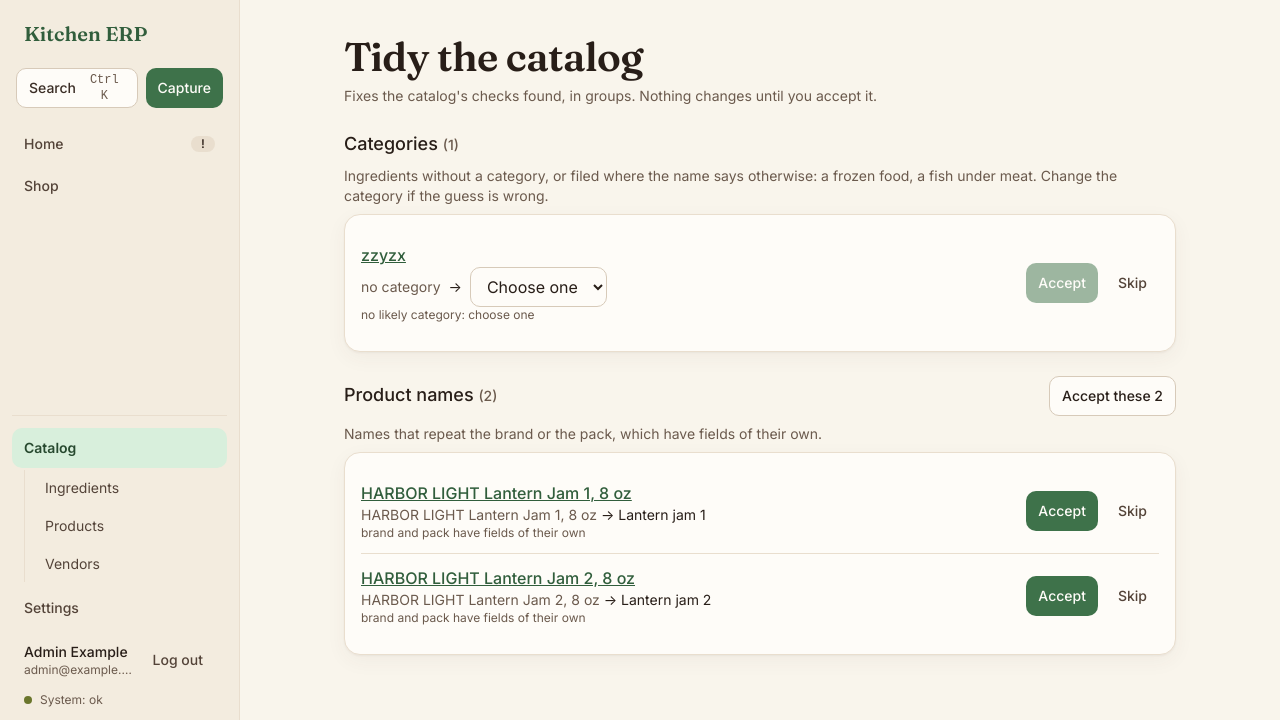
Scenario: tidy the catalog (issue 349) › groups suggestions and applies one, a whole group, or a skip
expect the list item with test id "cleanup-row" shows "HARBOR LIGHT Lantern Jam 1, 8 oz → Lantern jam 1": met, box left=361, top=469, right=1159, bottom=554
expect the button with aria-label "Accept: zzyzx" is disabled: met, box left=1026, top=263, right=1098, bottom=303
Step 1. Click the button with aria-label "Skip: zzyzx" → (1132,283), box left=1106, top=263, right=1159, bottom=303
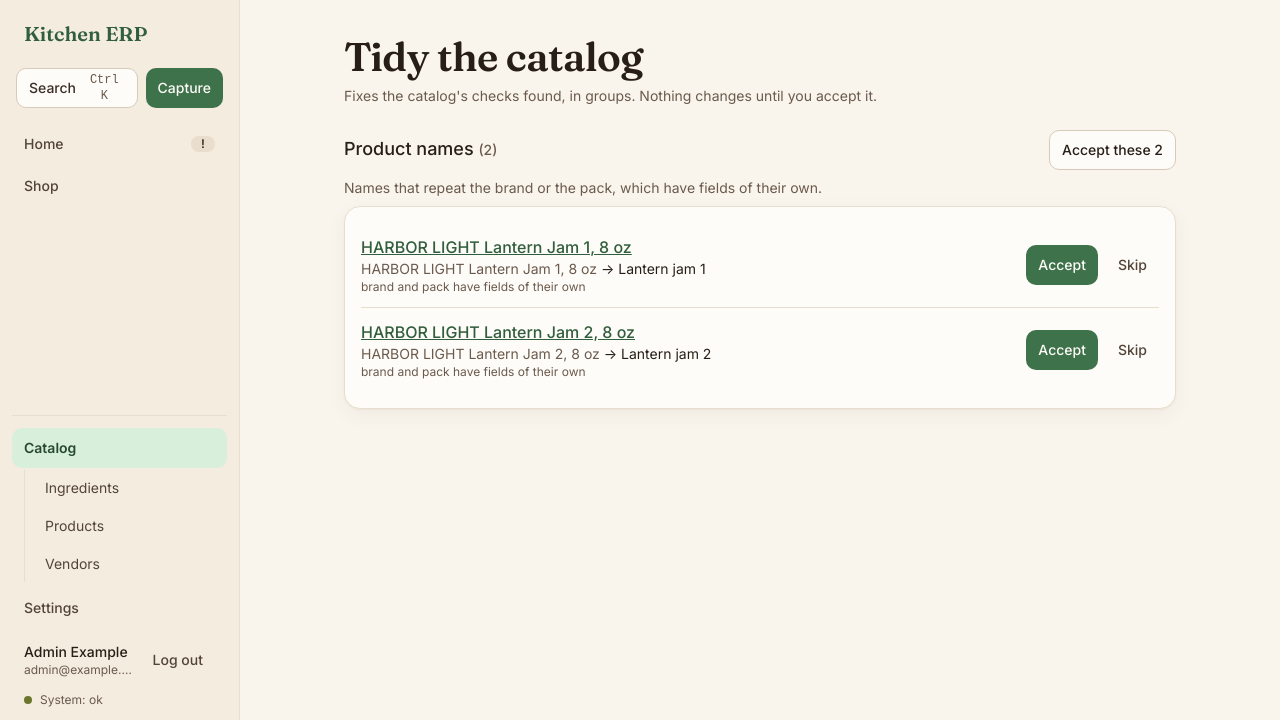
expect the heading "Categories" is gone: met
Step 2. Click the button "Accept these 2" → (1113,150), box left=1049, top=130, right=1176, bottom=170
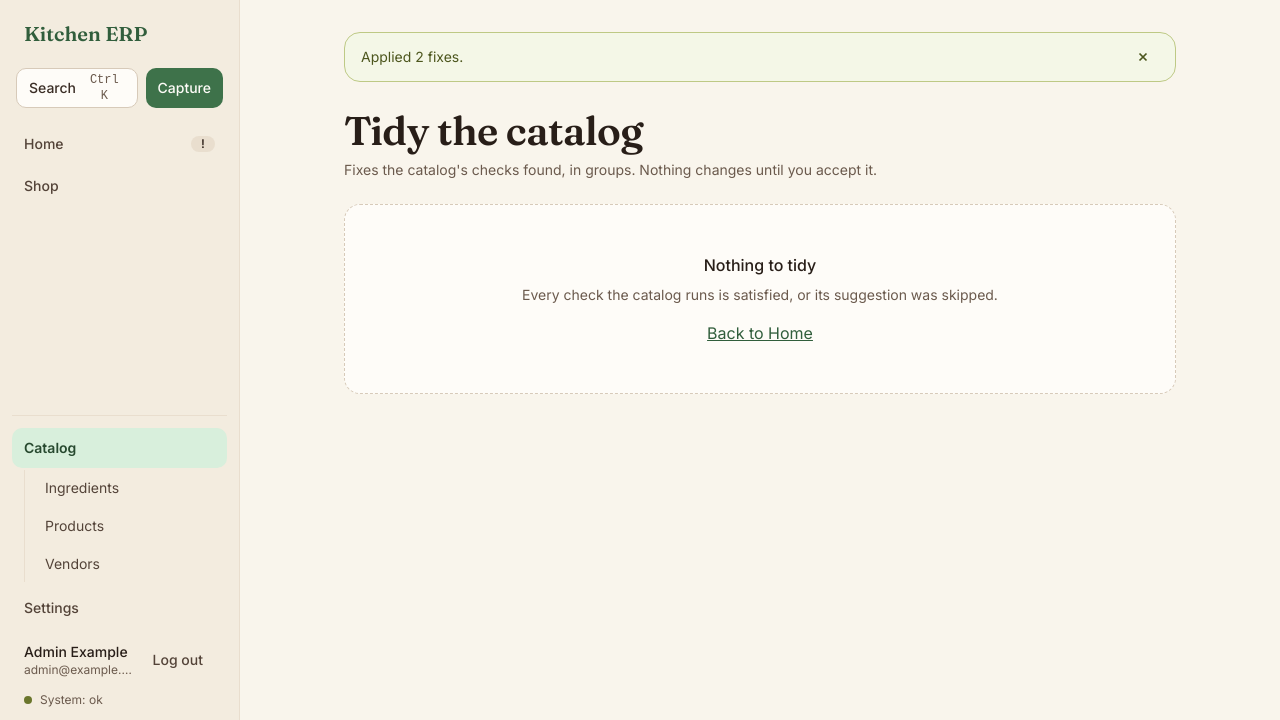
expect the text "Nothing to tidy" is shown: met, box left=704, top=255, right=816, bottom=275
